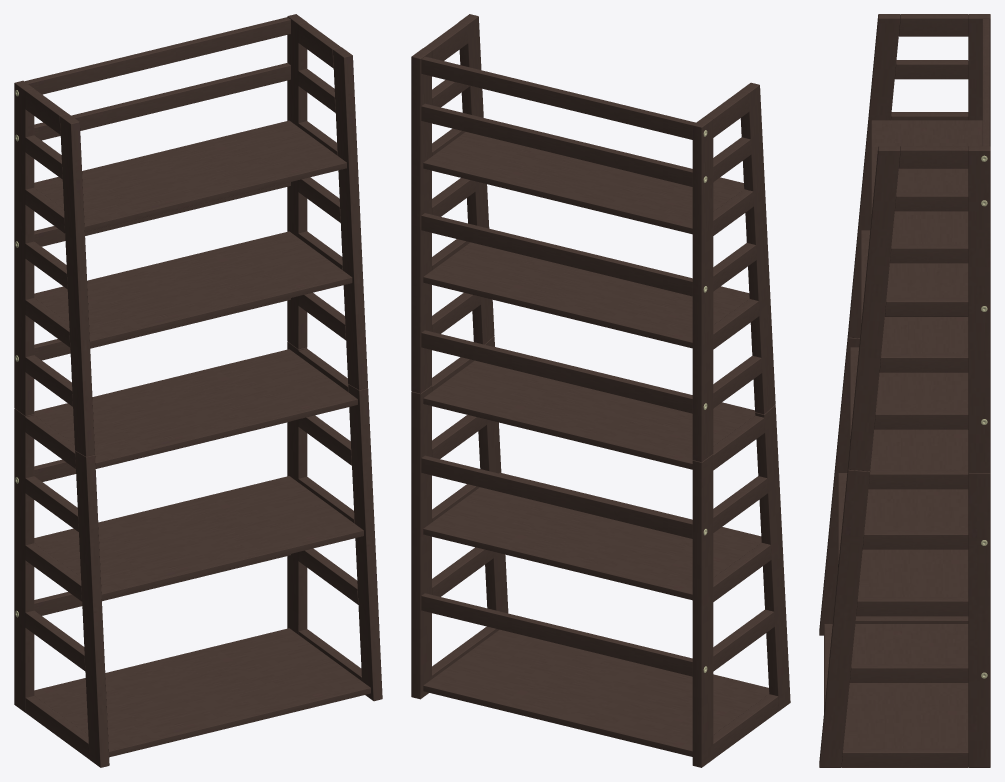
Rendered from B07DMHTGJD.glb.
3 views of the same model, side by side, from view 1: azimuth 30°, elevation 25°; view 2: azimuth 150°, elevation 25°; view 3: azimuth 270°, elevation 25° (orthographic). The views are drawn at different scales.
Visible parts, largest first — view 1: RootNode; view 2: RootNode; view 3: RootNode.
Part boxes in pixels (box(x1,y1,x2,y2)): RootNode: box(14, 14, 382, 767); RootNode: box(411, 14, 790, 767); RootNode: box(819, 14, 990, 767).
Size of the model in its own units: 0.763 by 1.6 by 0.4027.
1 material, 1 textured.
